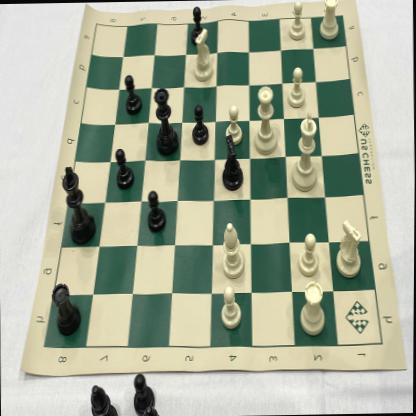black-king: (61, 160, 101, 247)
black-knight: (219, 134, 246, 192)
black-pawn: (143, 186, 167, 234), (114, 144, 137, 194), (121, 72, 146, 116), (190, 102, 211, 148), (187, 3, 208, 46)
black-queen: (152, 83, 180, 158)
black-rook: (51, 278, 84, 336)
white-bishop: (219, 218, 250, 280)
white-king: (287, 108, 322, 192)
white-knight: (334, 216, 368, 278), (190, 26, 218, 82)
white-pawn: (218, 282, 244, 332), (296, 230, 321, 278), (221, 102, 246, 148), (285, 0, 311, 44), (286, 64, 307, 112)
white-queen: (251, 83, 280, 155)
white-rook: (297, 279, 328, 338), (316, 0, 344, 42)
